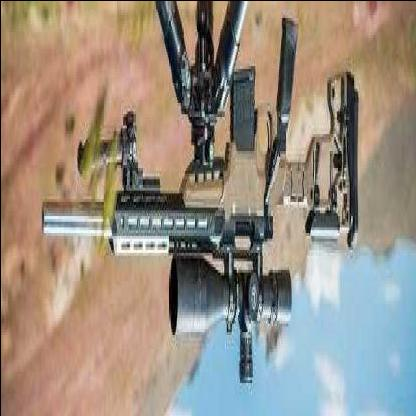rifle: (29, 3, 376, 371)
